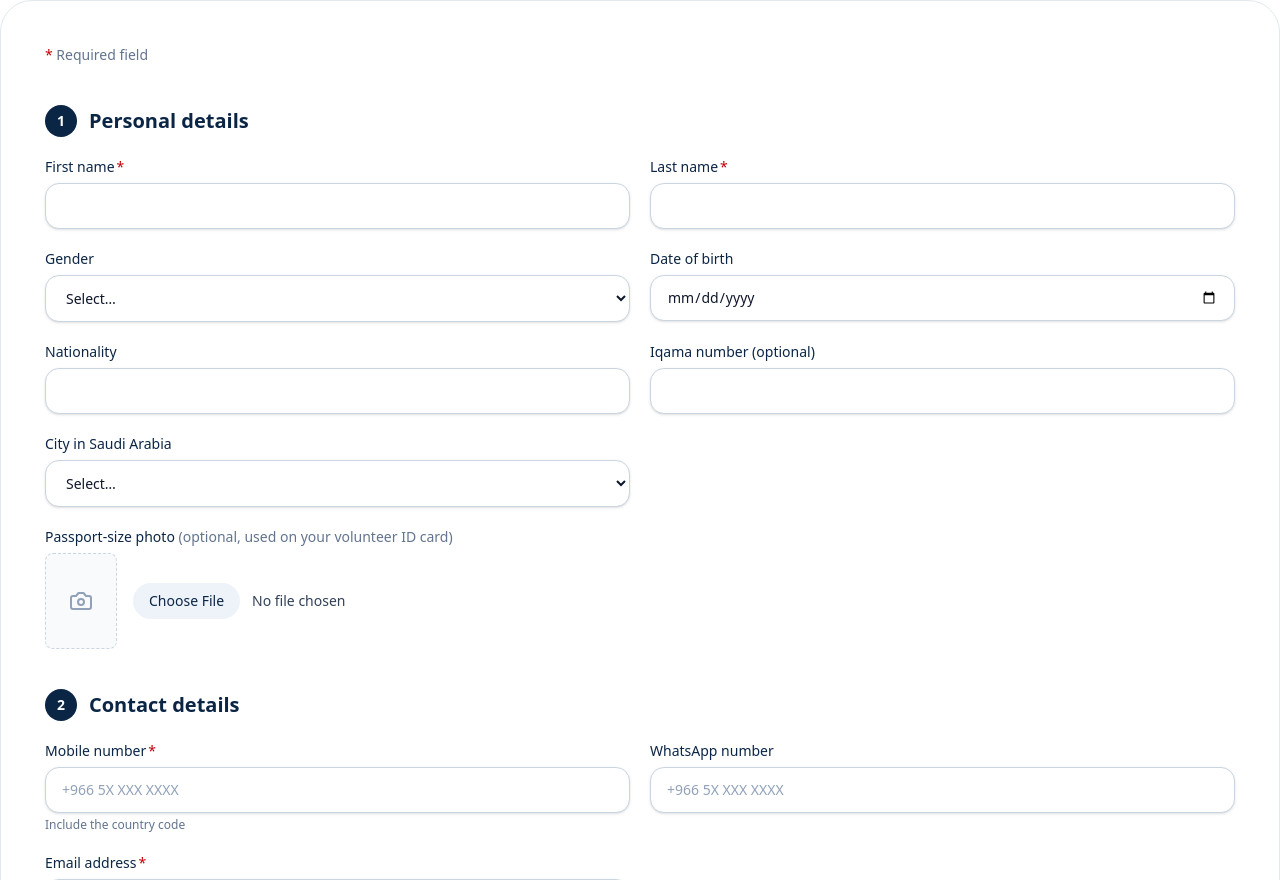
Test: VolunteerForm › shows a network failure without claiming success
This screenshot has width=1280, height=880.
Step 1. Type "Asha" into the field labelled "First name*" → point(338, 206), box [45,183,630,229]
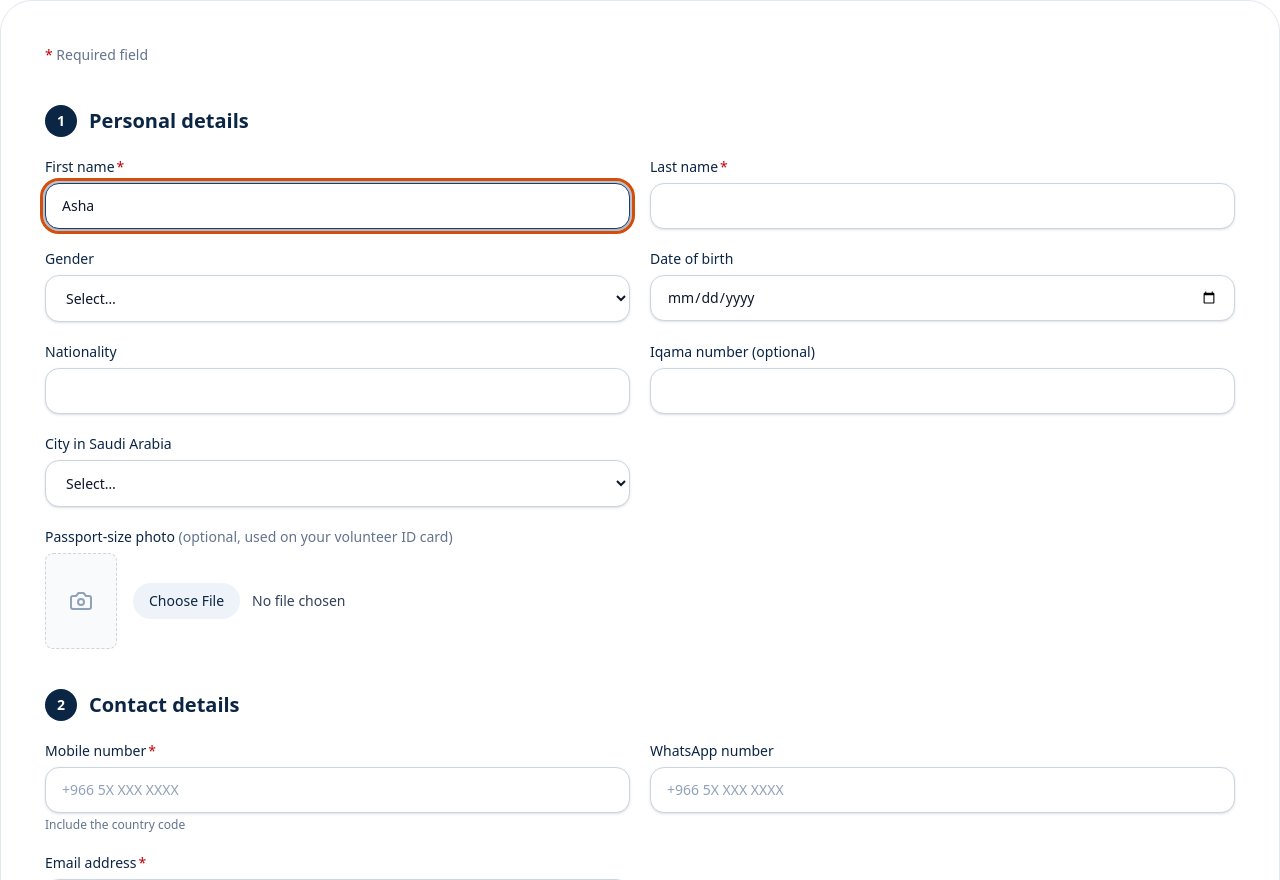
Step 2. Type "Nair" into the field labelled "Last name*" → point(942, 206), box [650,183,1235,229]
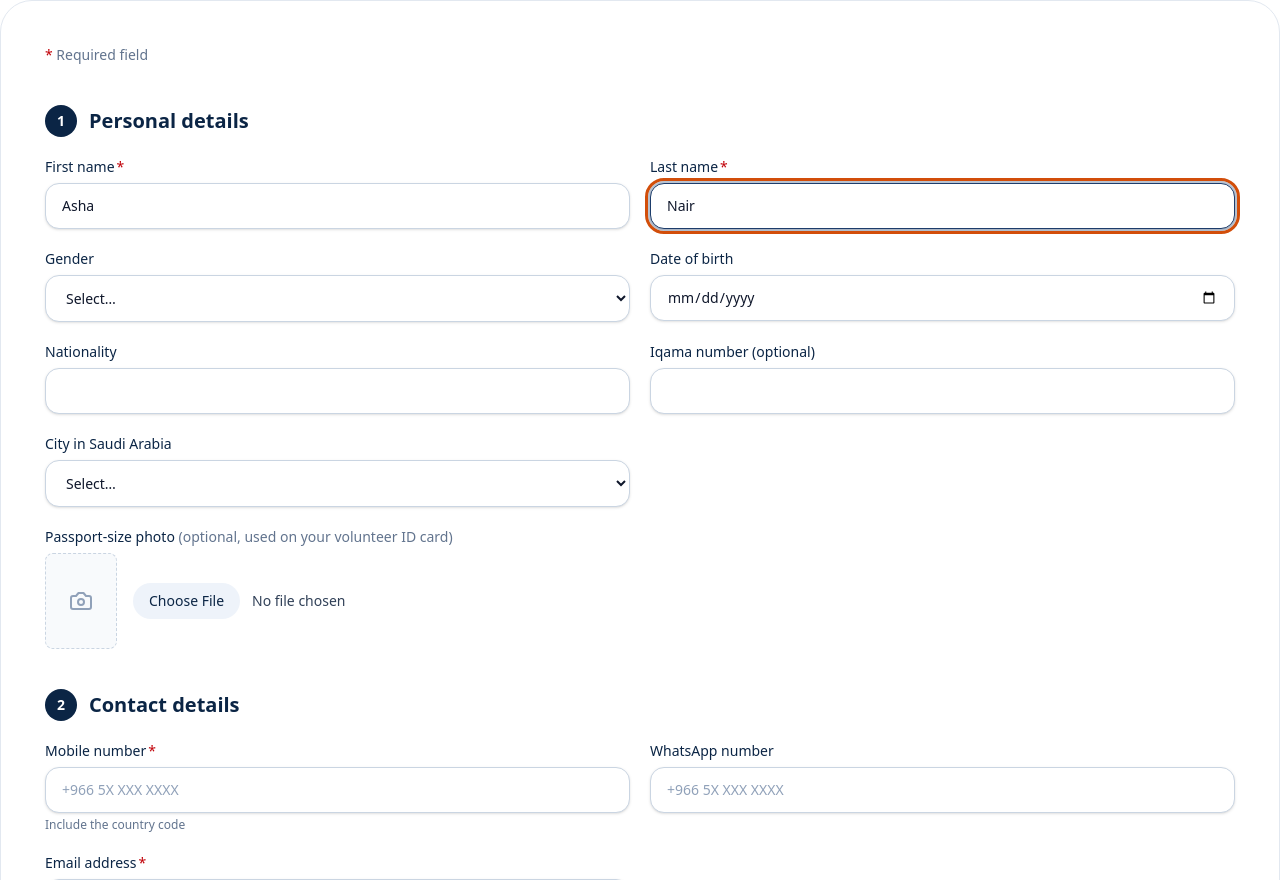
Step 3. Type "+966501234567" into the field labelled "Mobile number*" → point(338, 790), box [45,767,630,813]
(page scrolled)
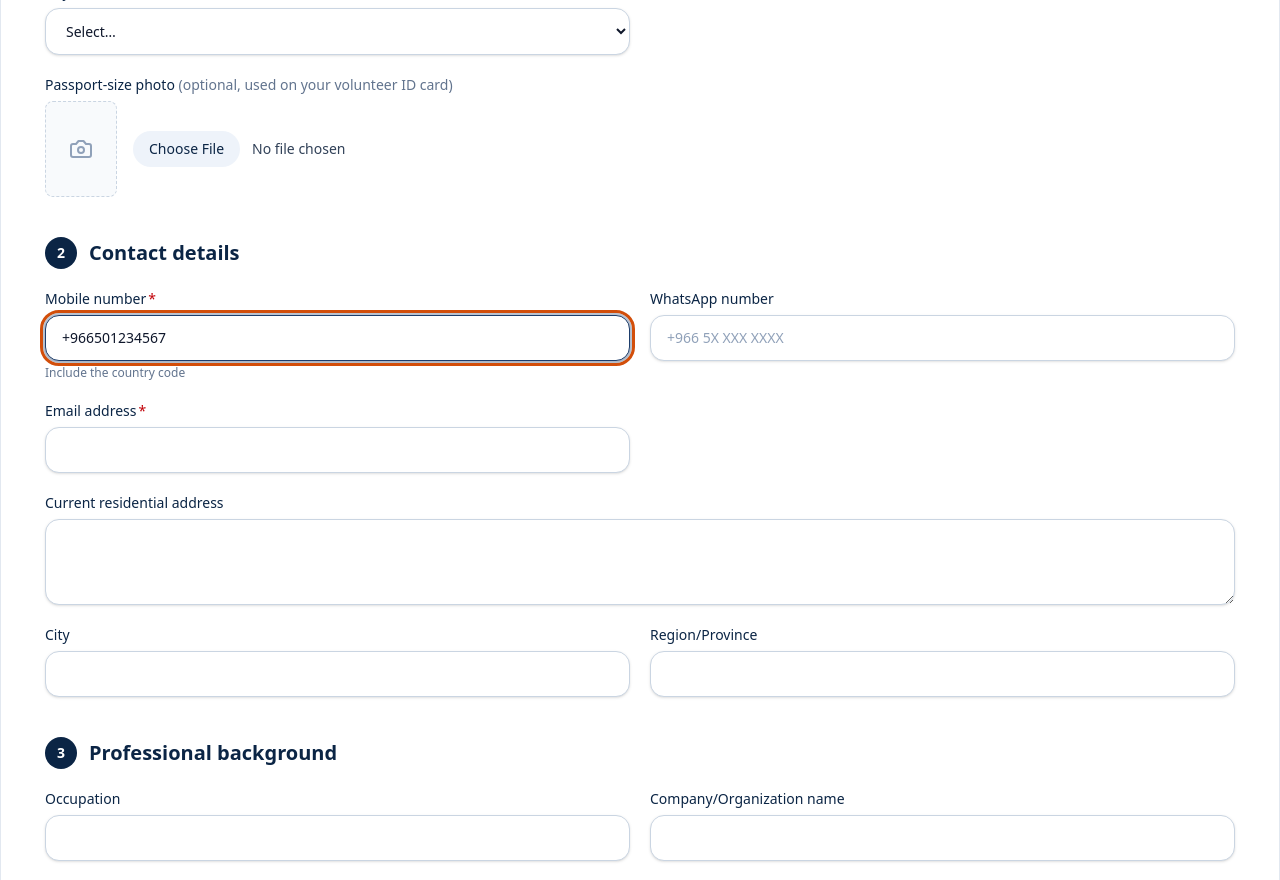
Step 4. Type "asha@example.com" into the field labelled "Email address*" → point(338, 450), box [45,427,630,473]
(page scrolled)
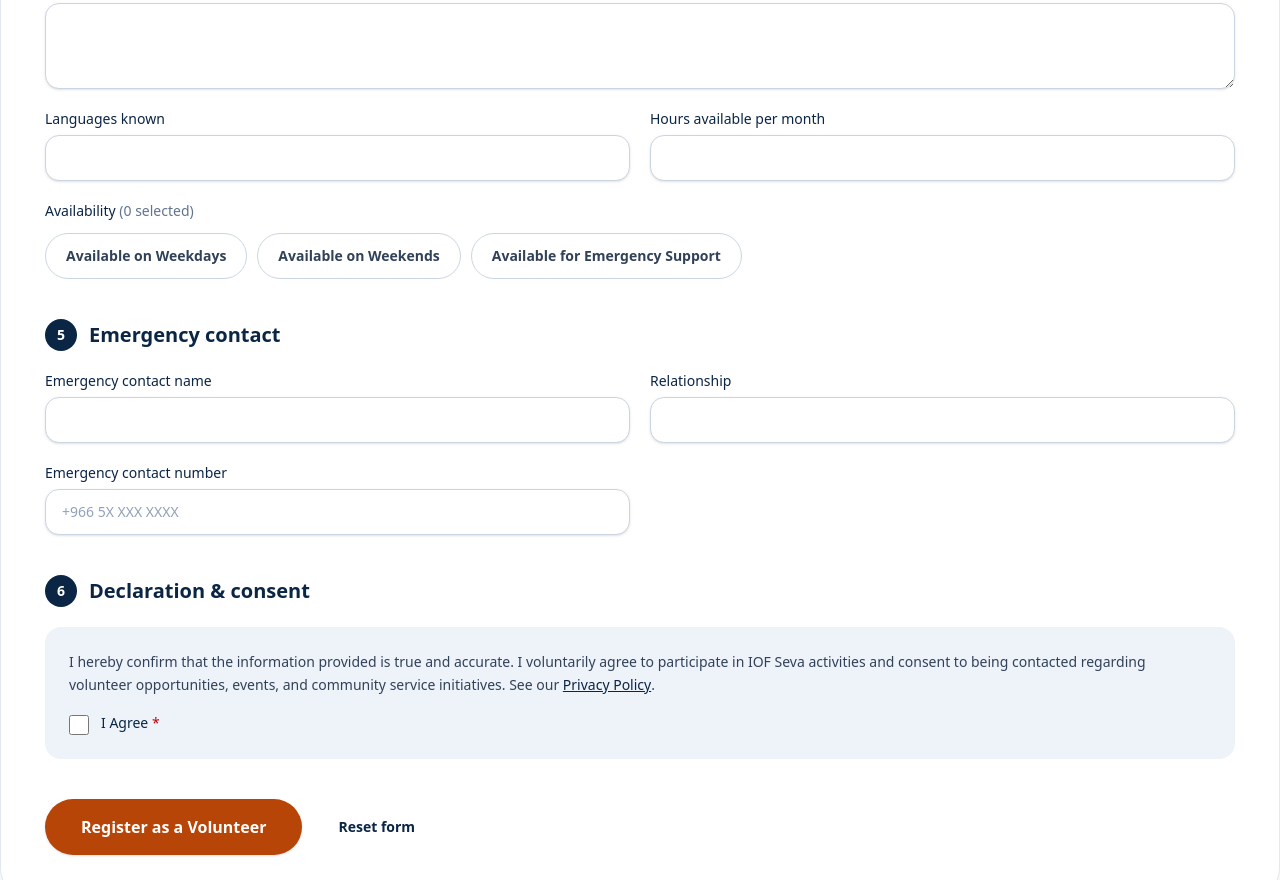
Step 5. Click the checkbox labelled "I Agree *" → point(79, 724), box [69,714,89,734]
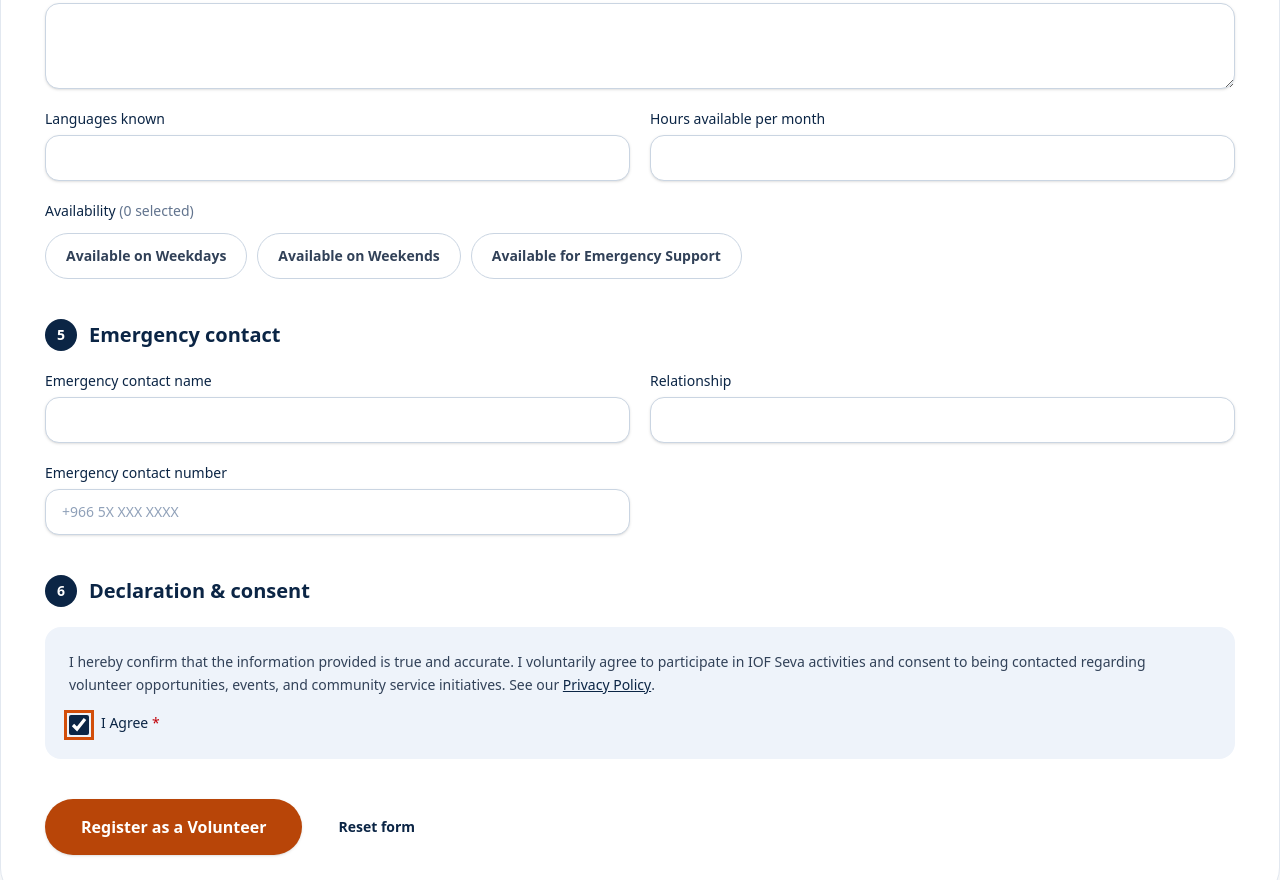
Step 6. Click the button "Register as a Volunteer" → point(174, 826), box [45,798,302,854]
(page scrolled)
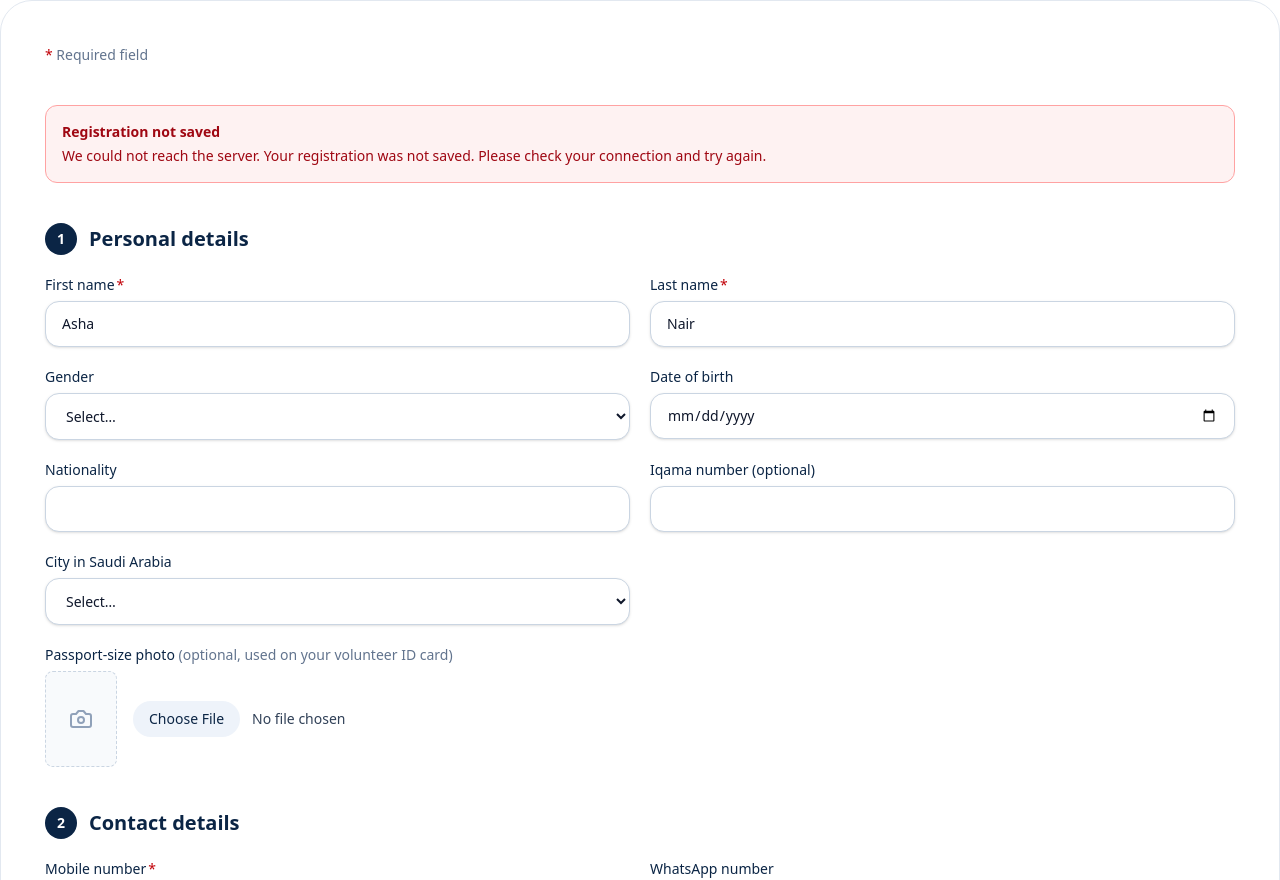
Result: the message shows "could not reach the server" at [62,146,766,165]
